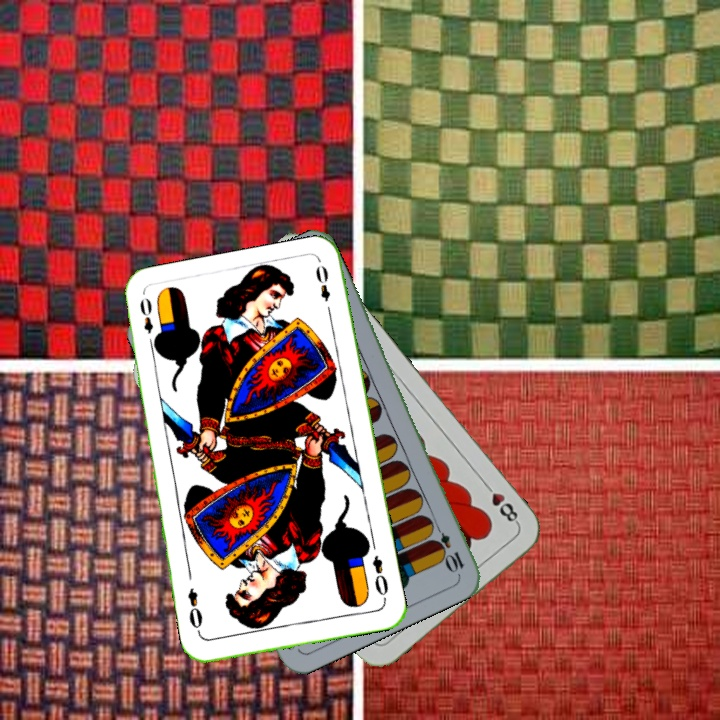E10: (428, 518, 467, 575)
EO: (368, 552, 391, 604), (135, 293, 156, 336)
H8: (479, 478, 522, 527)
